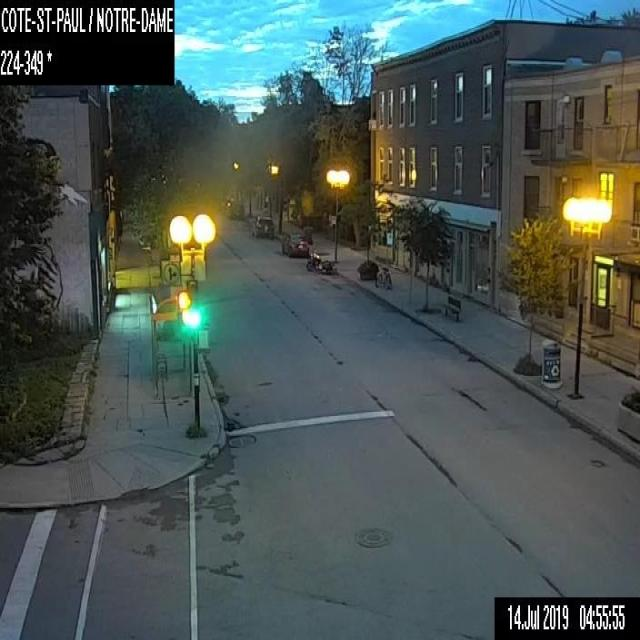vehicle: (281, 231, 308, 256), (305, 250, 332, 272), (251, 214, 273, 237), (225, 200, 244, 218)
